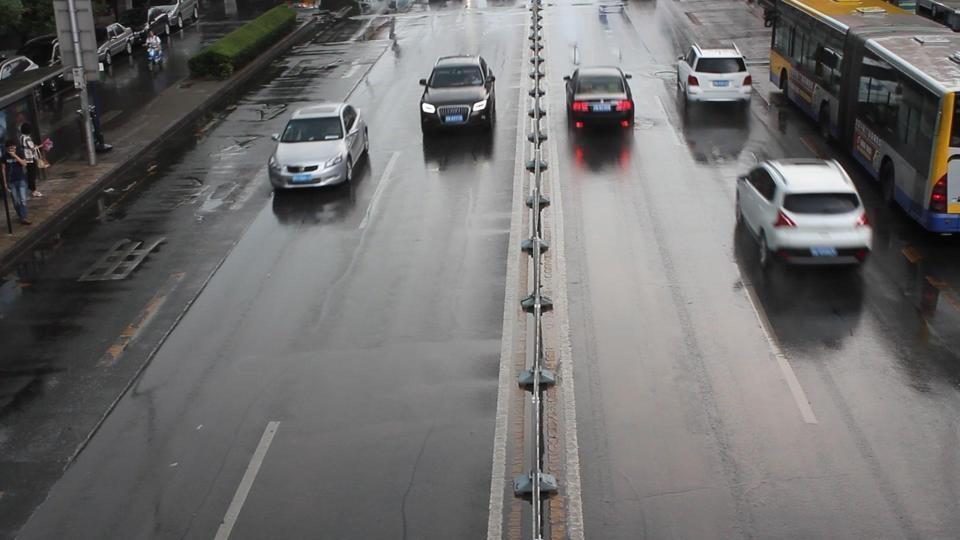car: (735, 158, 873, 270), (267, 102, 371, 191), (418, 54, 497, 134), (676, 43, 754, 107), (564, 65, 636, 133), (147, 0, 200, 34), (0, 55, 38, 80)
